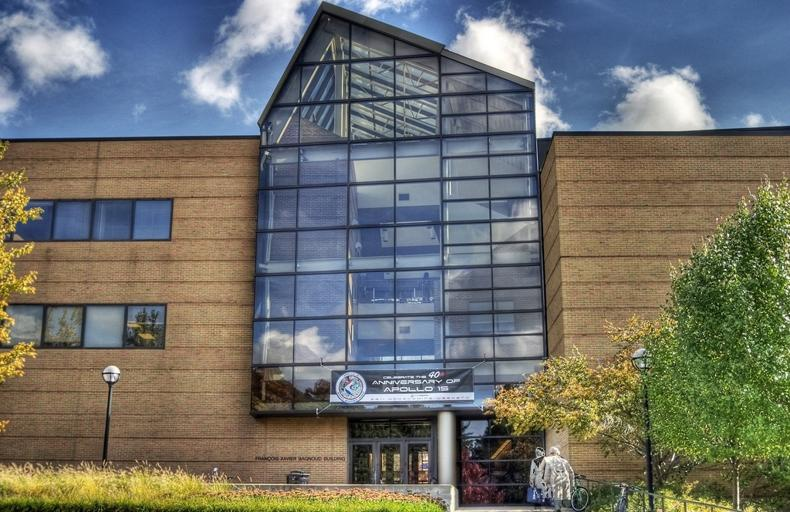non-vehicle: (562, 473, 589, 511), (611, 482, 640, 511)
